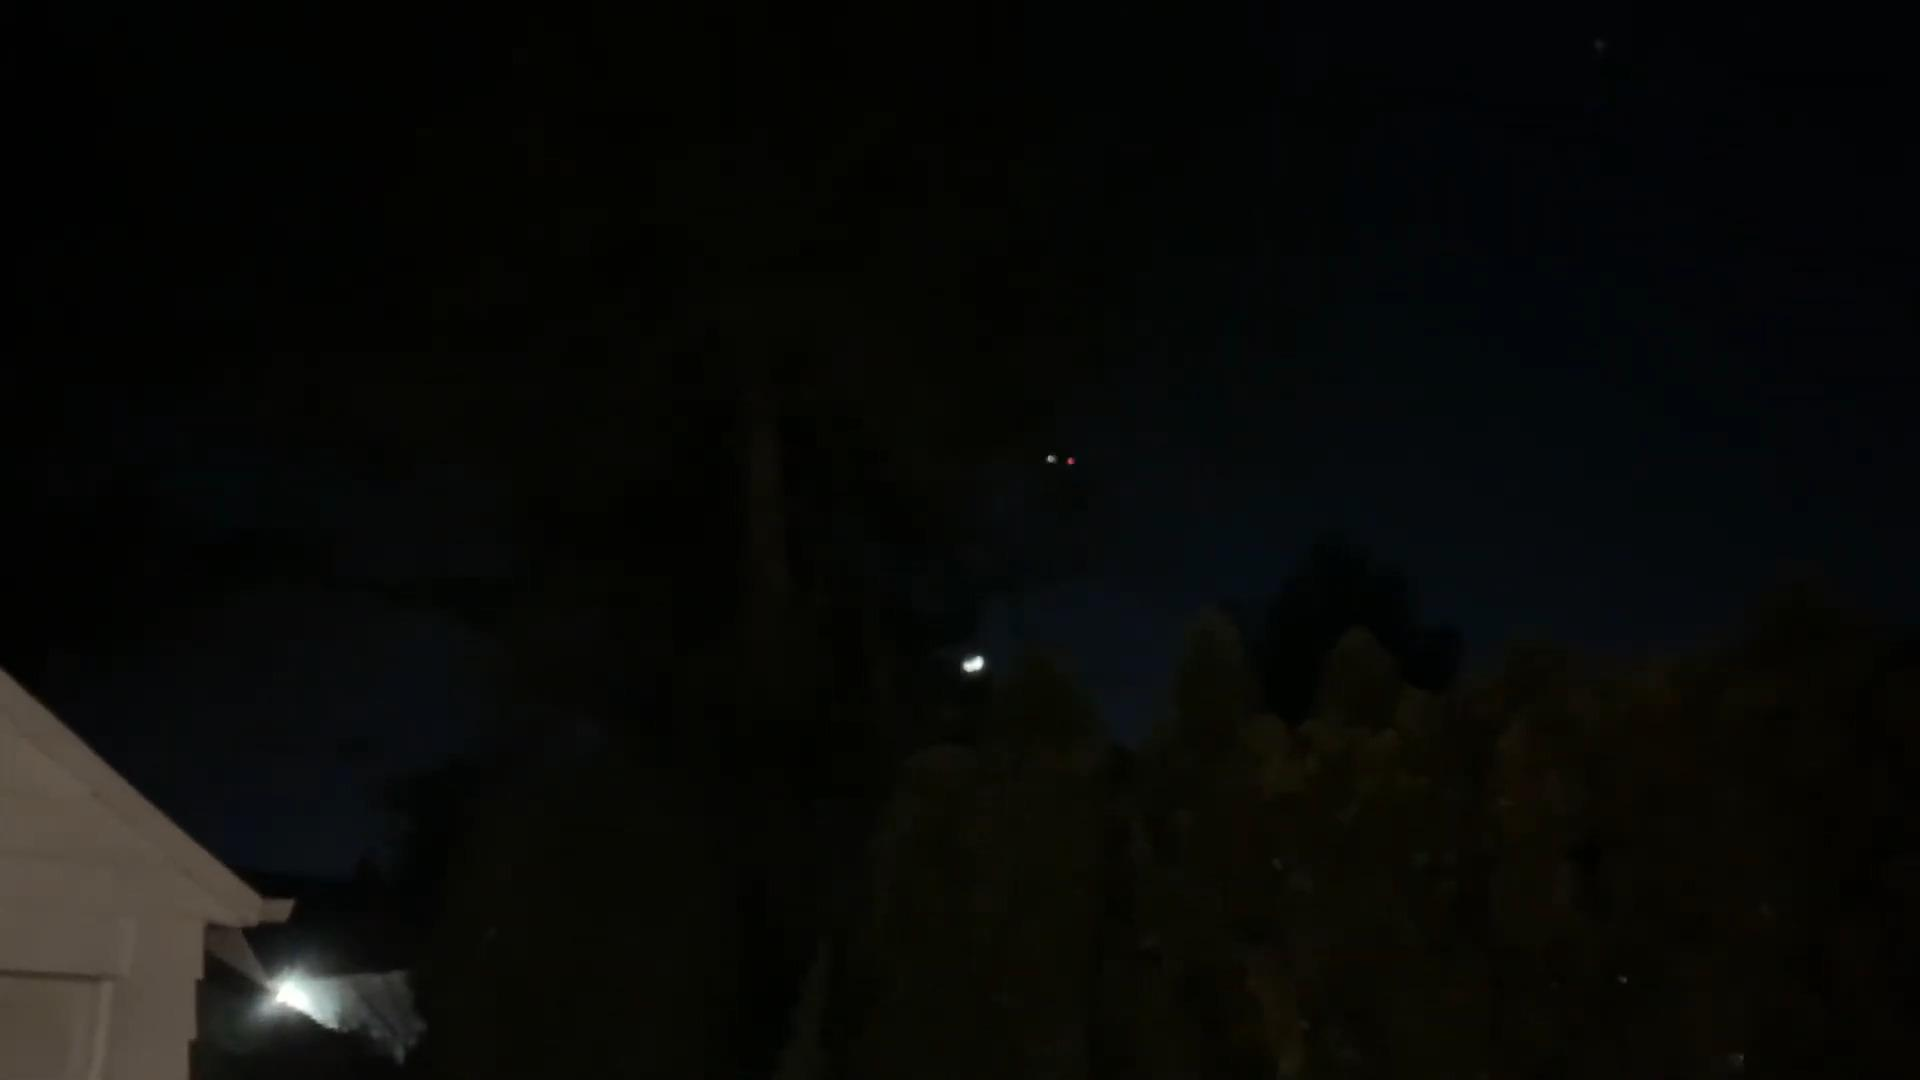Plane: (1029, 448, 1100, 489)
